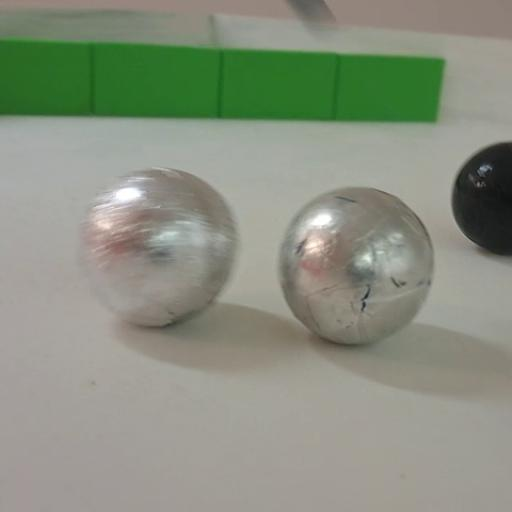alive: (277, 183, 440, 347), (76, 166, 240, 326)
dead: (448, 138, 512, 256)
